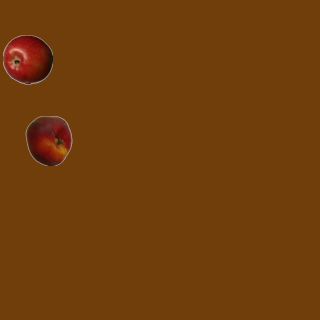Apple Braeburn: (2, 34, 52, 84)
Nectarine Flat: (23, 115, 73, 165)
